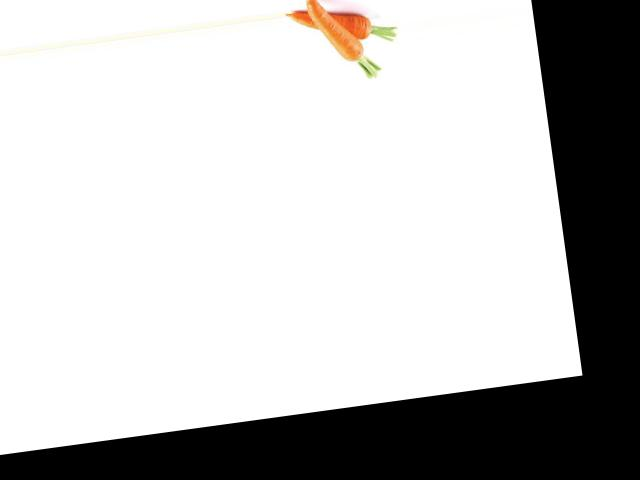carrot: (287, 3, 385, 45)
